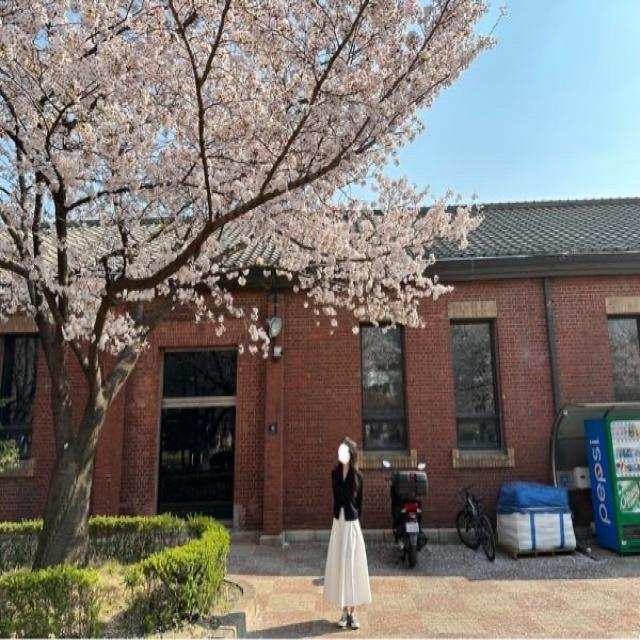blazer: (331, 463, 363, 523)
skirt: (322, 507, 372, 611)
